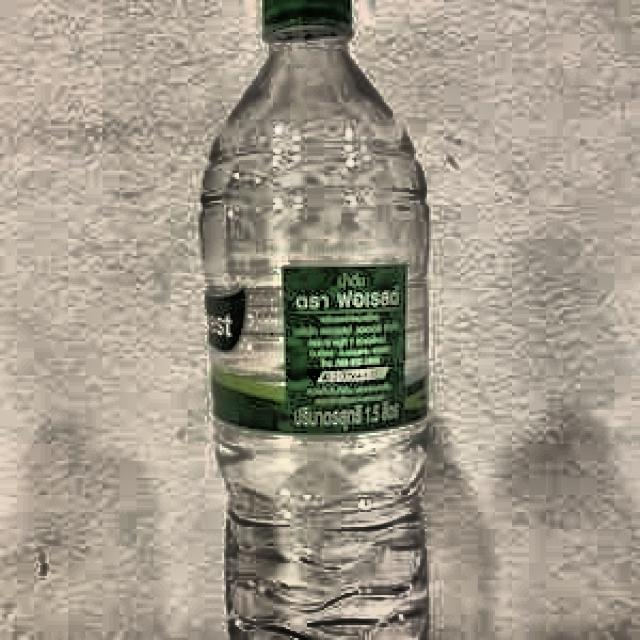Bottles: (177, 0, 449, 640)
